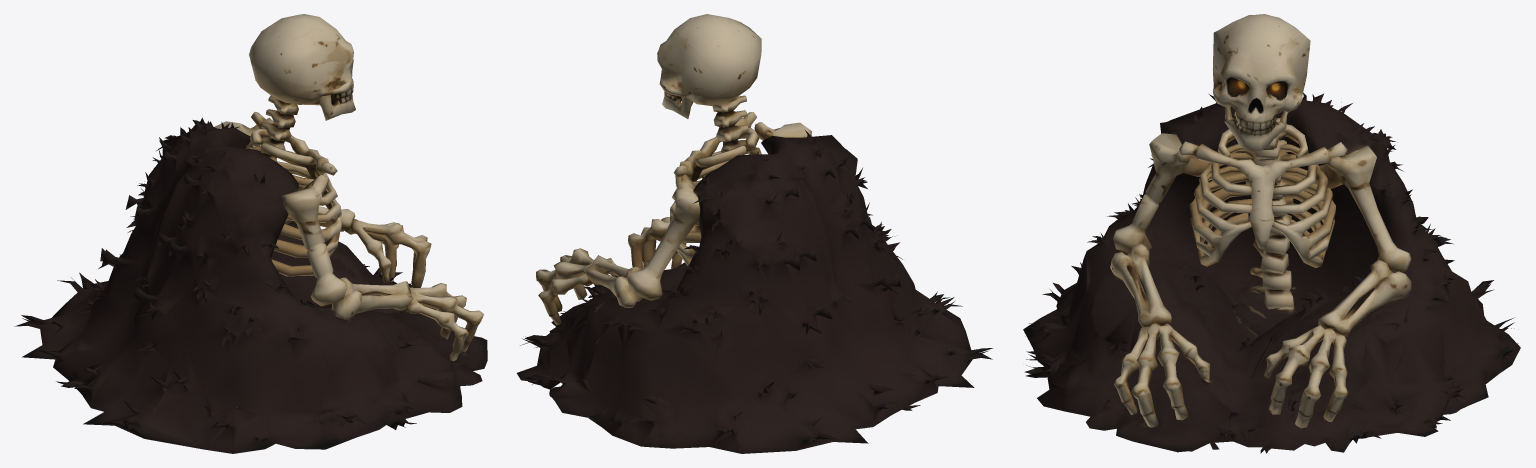
File: enc-colossus.glb
The picture shows the model from 3 angles, left to right: view 1: azimuth 30°, elevation 25°; view 2: azimuth 150°, elevation 25°; view 3: azimuth 270°, elevation 25°; orthographic projection. The views are drawn at different scales.
Parts seen in each view (by area): view 1: tripo_node_e2ef41c5-d1d1-4803-95c5-286ebe030b23; view 2: tripo_node_e2ef41c5-d1d1-4803-95c5-286ebe030b23; view 3: tripo_node_e2ef41c5-d1d1-4803-95c5-286ebe030b23.
Boxes of the visible parts, x1,y1,x2,y2 form: tripo_node_e2ef41c5-d1d1-4803-95c5-286ebe030b23: (14,14,487,453); tripo_node_e2ef41c5-d1d1-4803-95c5-286ebe030b23: (516,14,992,453); tripo_node_e2ef41c5-d1d1-4803-95c5-286ebe030b23: (1023,14,1520,453).
Bounding box in the file's own units: 0.9785 × 0.7871 × 0.998.
1 material, 1 textured.
